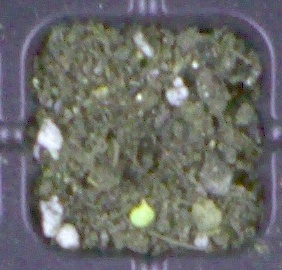chilli seed: (128, 198, 156, 226)
